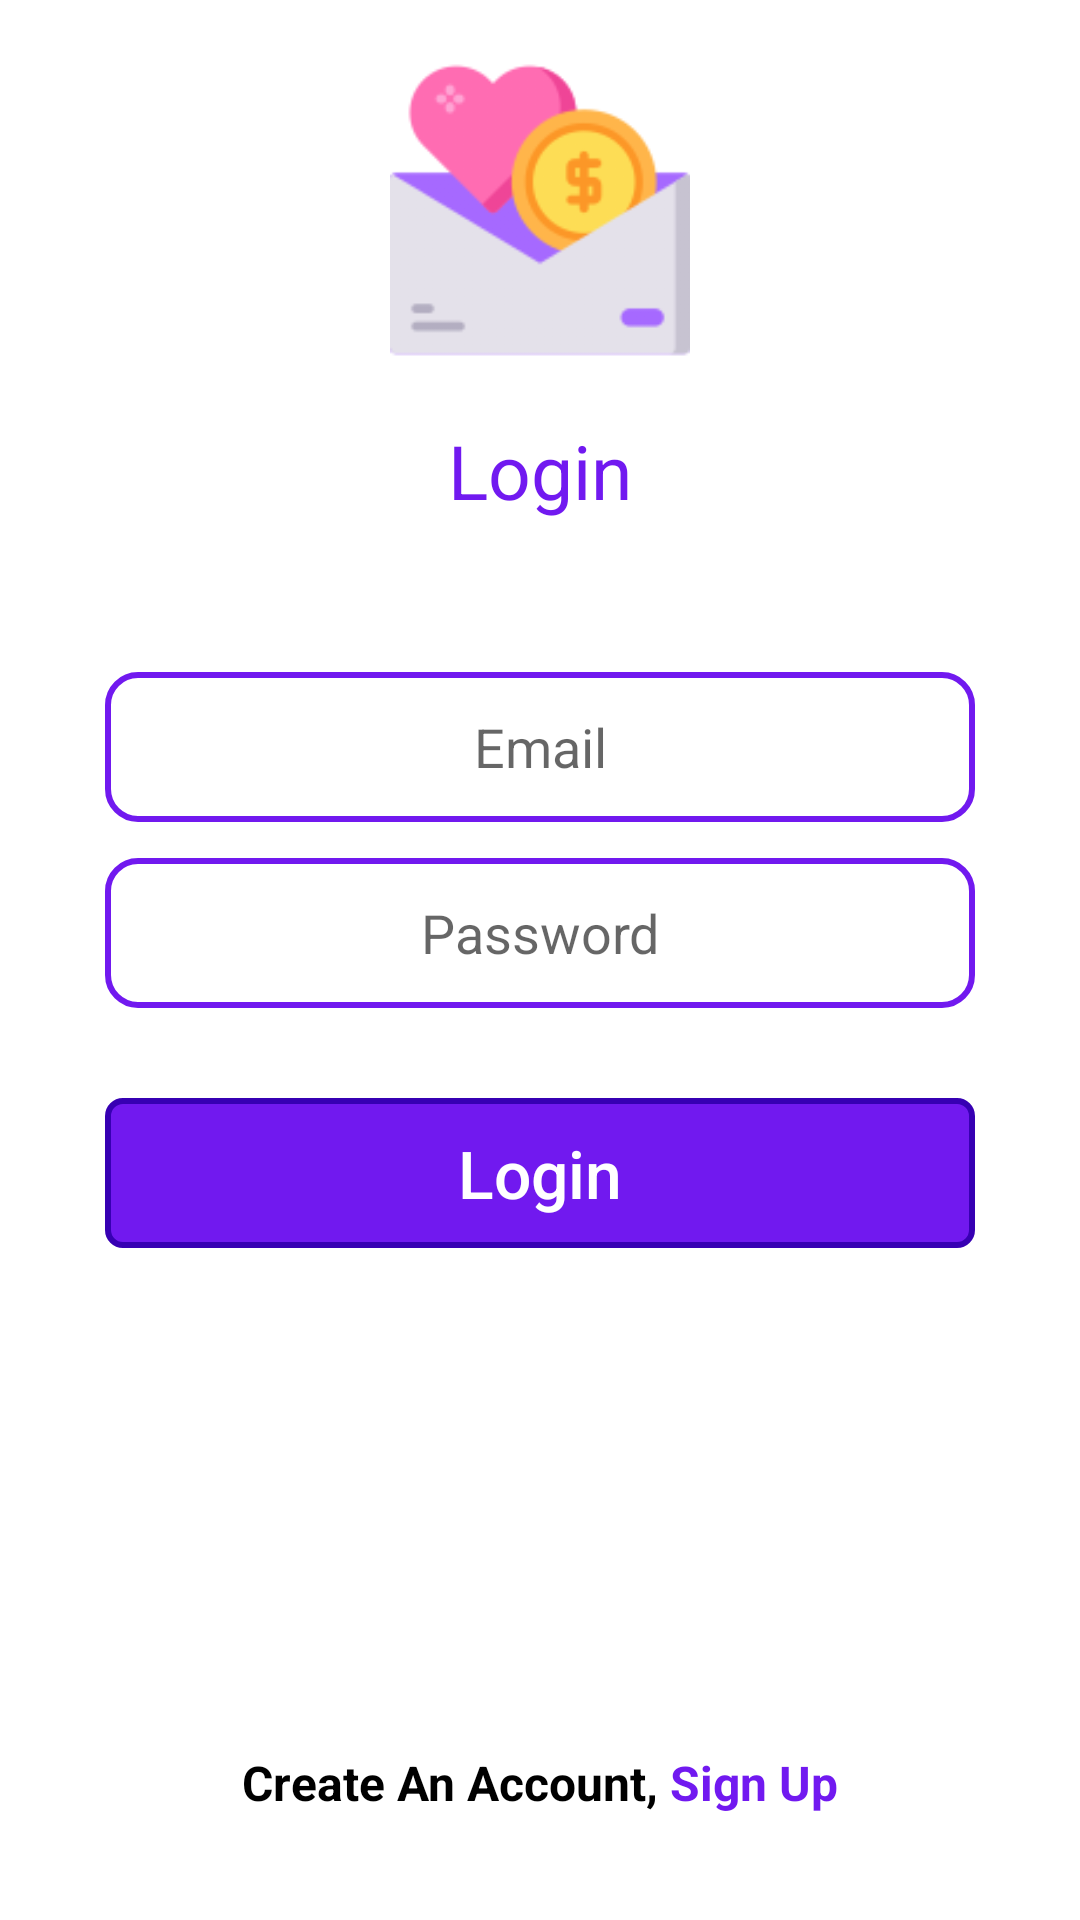

Where icons sit on this 1080×1920 app screen, as box=[x1, y1, x2, y2]:
donation: box=[390, 65, 690, 355]
